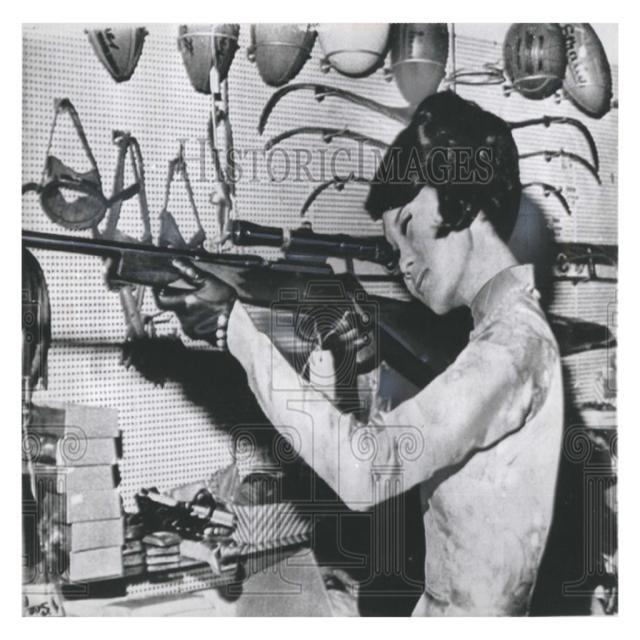weapon: (21, 216, 400, 370)
